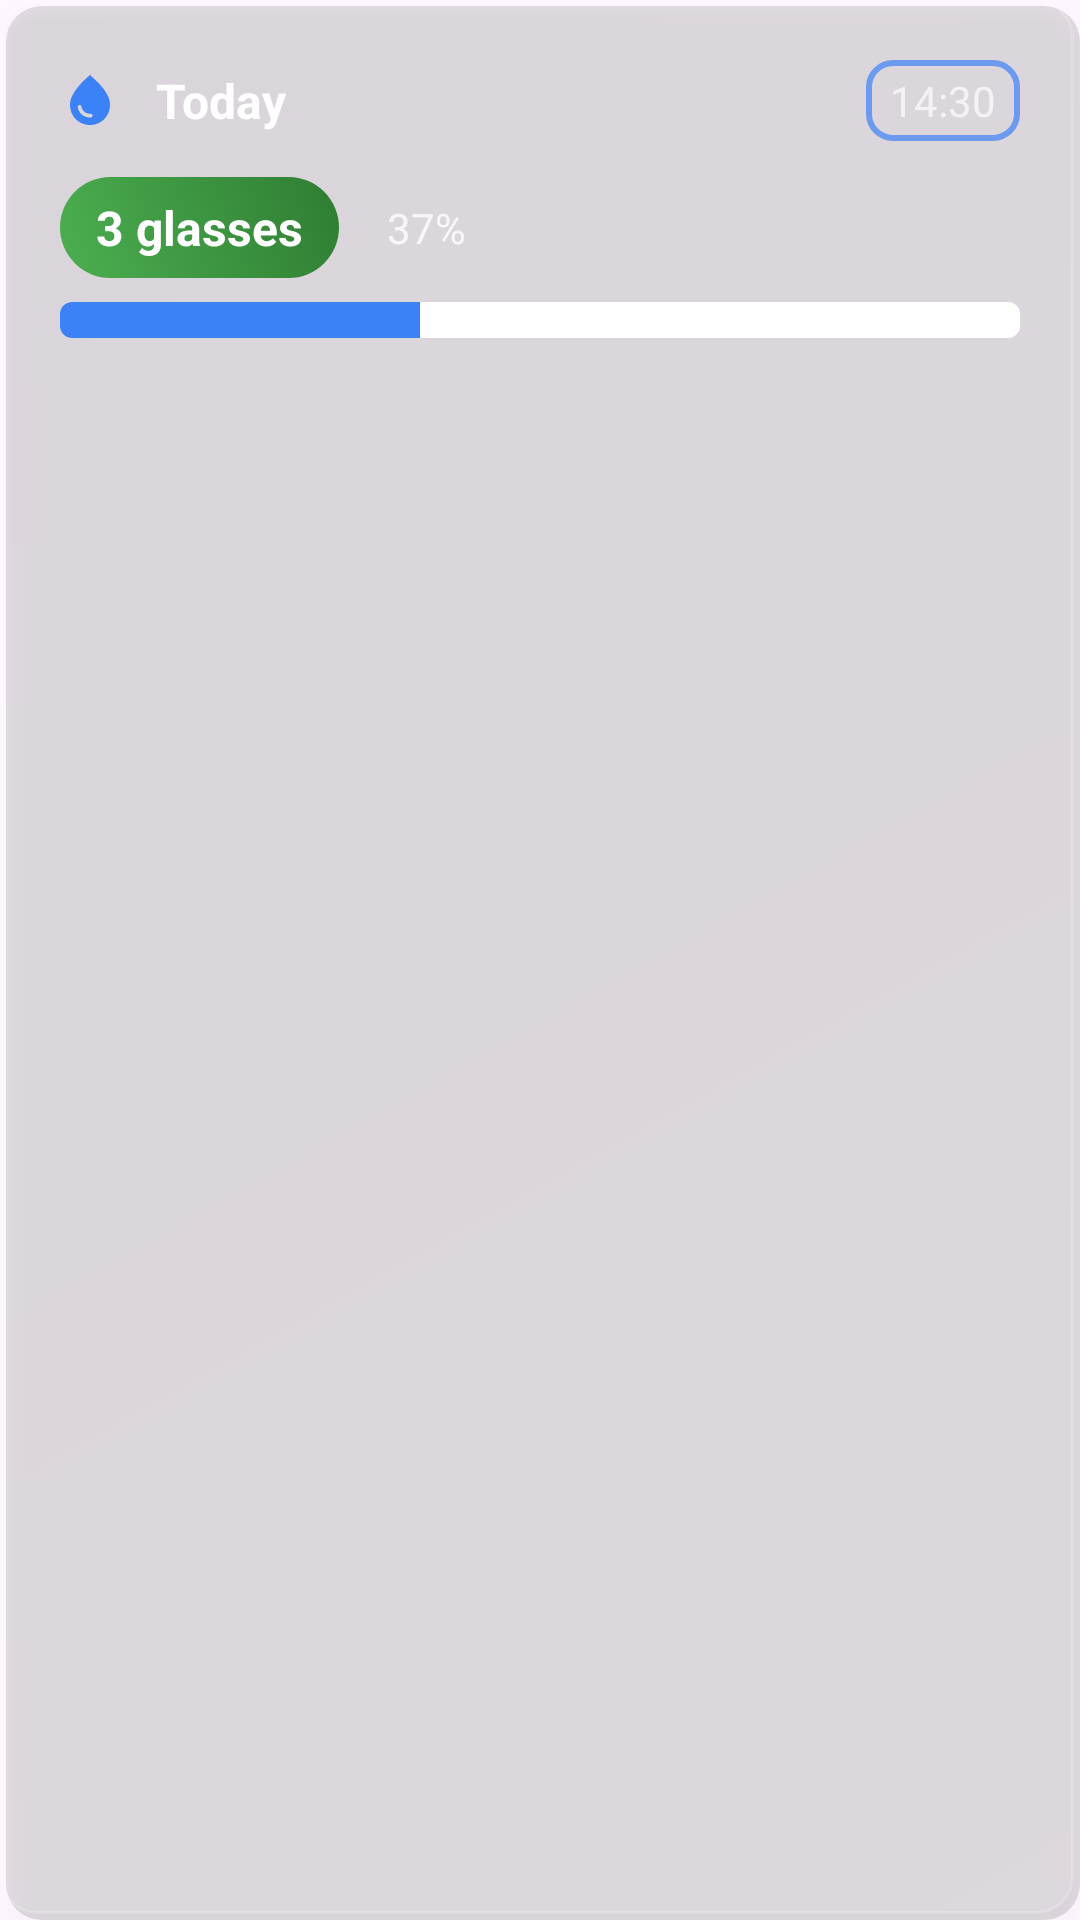

Icon bounding boxes for this 1080×1920 phone screenshot, format (x1, y1, x2, y2):
Water: (70, 75, 110, 125)
